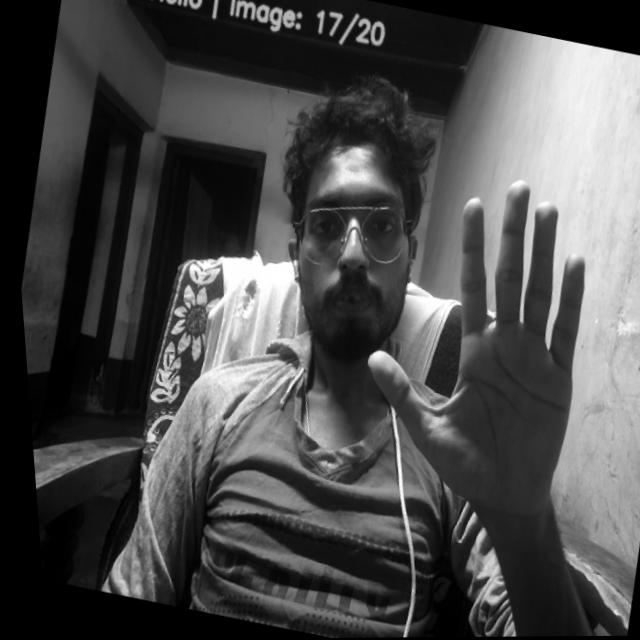Hello: (327, 153, 621, 531)
